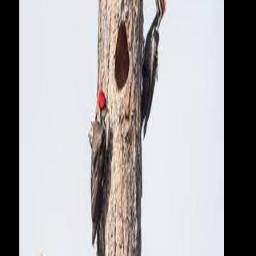Woodpecker: (141, 0, 166, 137), (90, 89, 110, 256)
